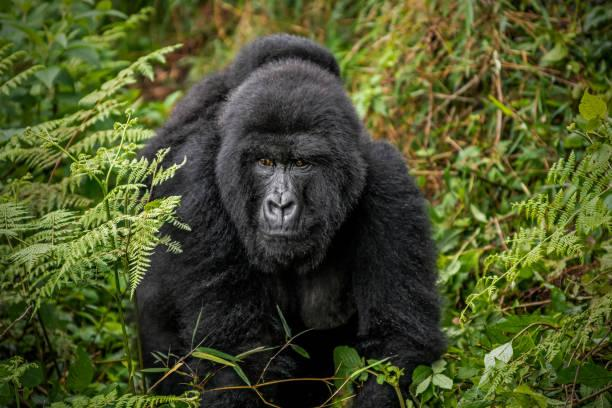goriile_montagne: (112, 30, 438, 408)
